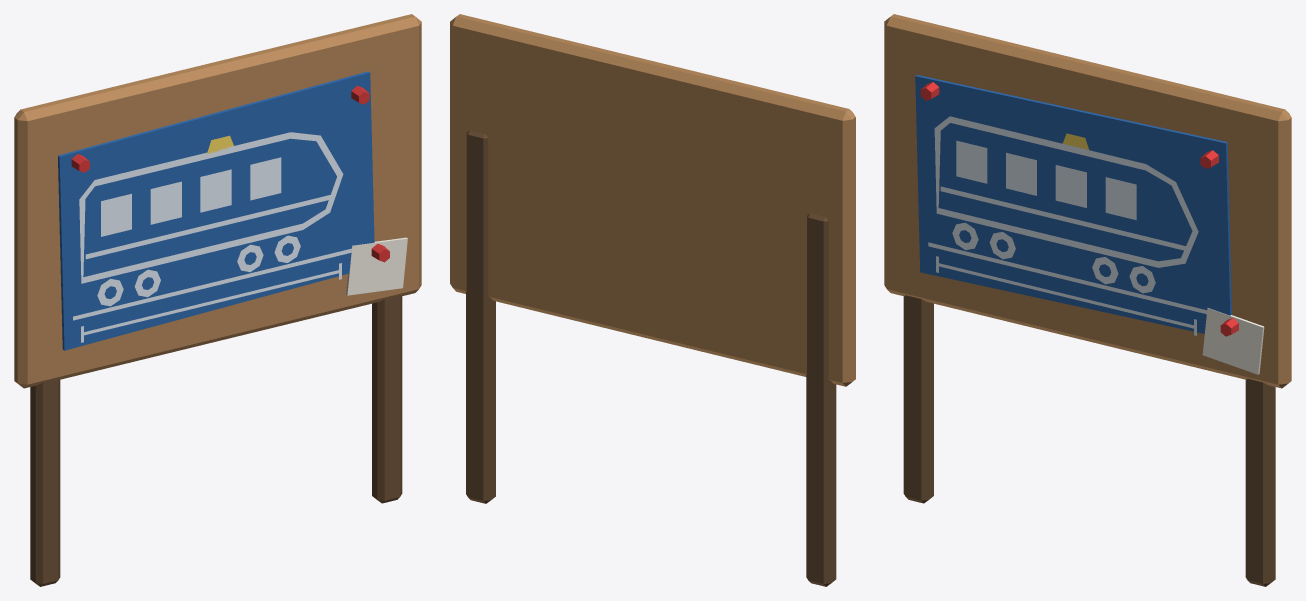
The model's file is record-hq-plans.glb.
3 renders of one model, left to right at view 1: azimuth 30°, elevation 25°; view 2: azimuth 150°, elevation 25°; view 3: azimuth 330°, elevation 25°, orthographic.
Parts seen in each view (by area): view 1: record-hq-plans; view 2: record-hq-plans; view 3: record-hq-plans.
Boxes of the visible parts, x1,y1,x2,y2 form: record-hq-plans: [14, 14, 421, 586]; record-hq-plans: [450, 14, 855, 586]; record-hq-plans: [884, 14, 1291, 586].
Size of the model in its own units: 2.6 by 2.95 by 0.24.
